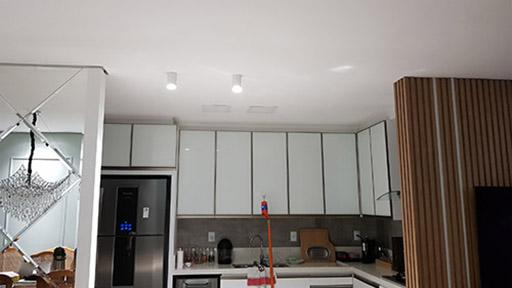Detector_Tensao_Contato: (260, 193, 271, 221)
